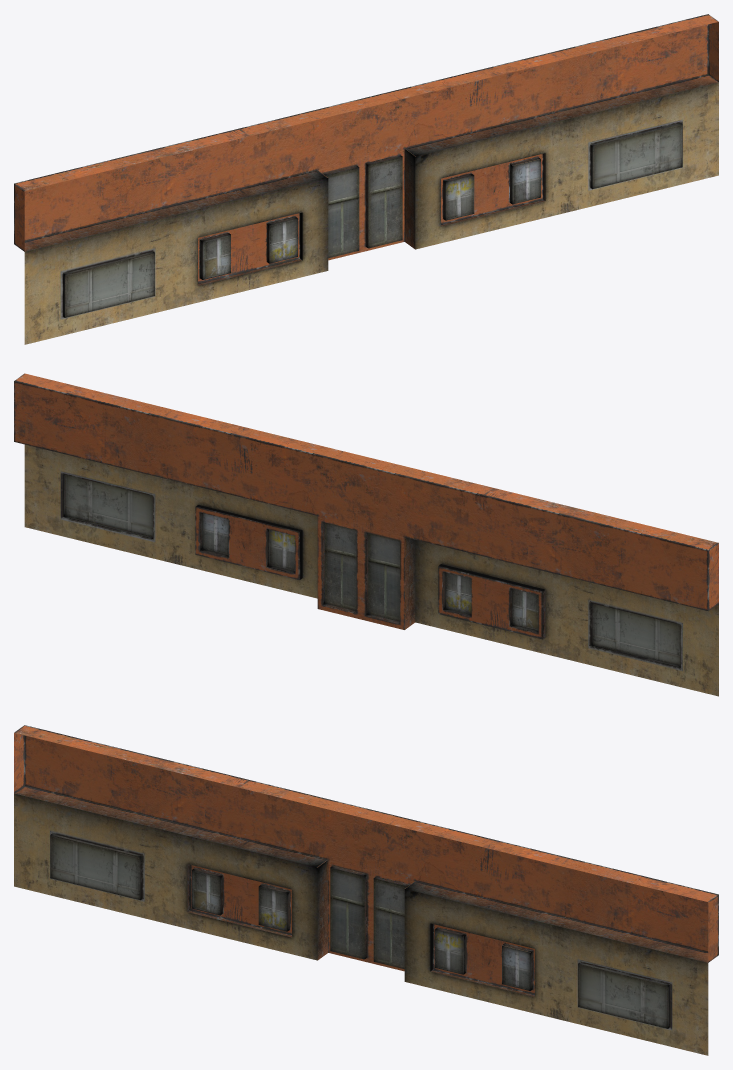
Rendered from TopWall_T01.FBX.
3 renders of one model, top to bottom at view 1: azimuth 30°, elevation 25°; view 2: azimuth 150°, elevation 25°; view 3: azimuth 330°, elevation 25°, orthographic.
Visible parts, largest first — view 1: TopWall_T01; view 2: TopWall_T01; view 3: TopWall_T01.
Part boxes in pixels (left/top/right/bottom): TopWall_T01: left=14, top=14, right=718, bottom=344; TopWall_T01: left=14, top=373, right=718, bottom=696; TopWall_T01: left=14, top=725, right=718, bottom=1055.
Bounding box in the file's own units: 3061 × 647 × 95.93.
